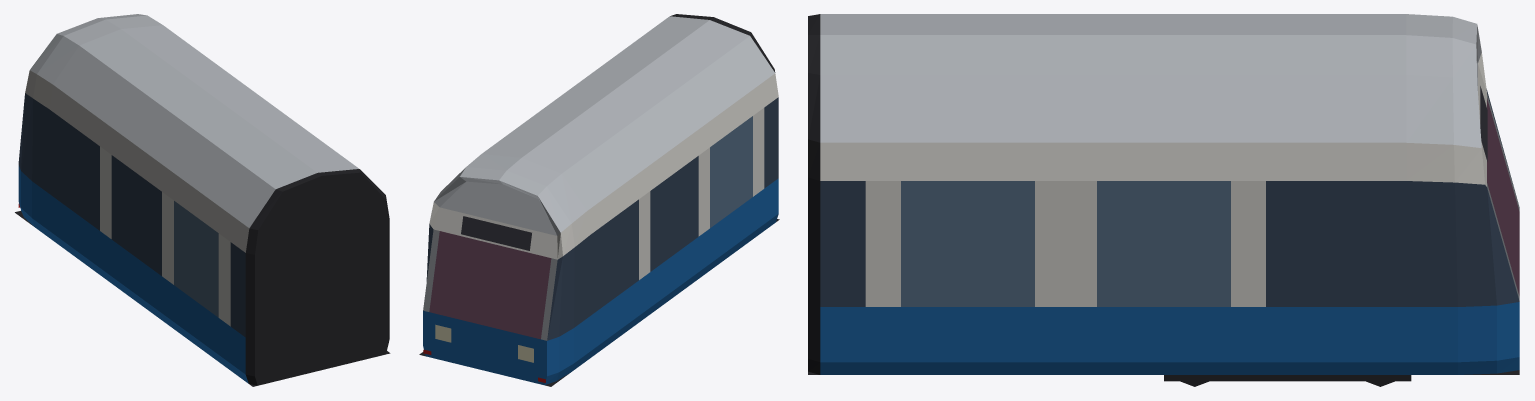
File: flexity_kopf.glb
3 renders of one model, left to right at view 1: azimuth 30°, elevation 25°; view 2: azimuth 150°, elevation 25°; view 3: azimuth 270°, elevation 25°, orthographic. The views are drawn at different scales.
Visible parts, largest first — view 1: body; view 2: body, display; view 3: body.
Boxes of the visible parts, x1=… form: body: x1=15, y1=14, x2=390, y2=386; body: x1=419, y1=14, x2=779, y2=386; display: x1=461, y1=216, x2=531, y2=250; body: x1=808, y1=14, x2=1519, y2=386.
Size of the model in its own units: 2.4 by 3.4 by 6.91.
